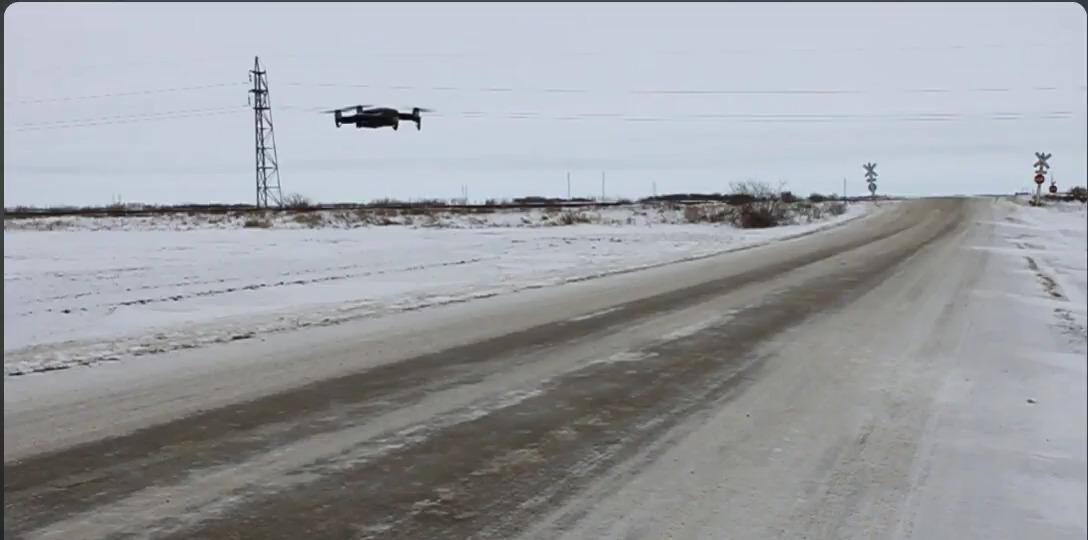dr: (325, 102, 438, 132)
